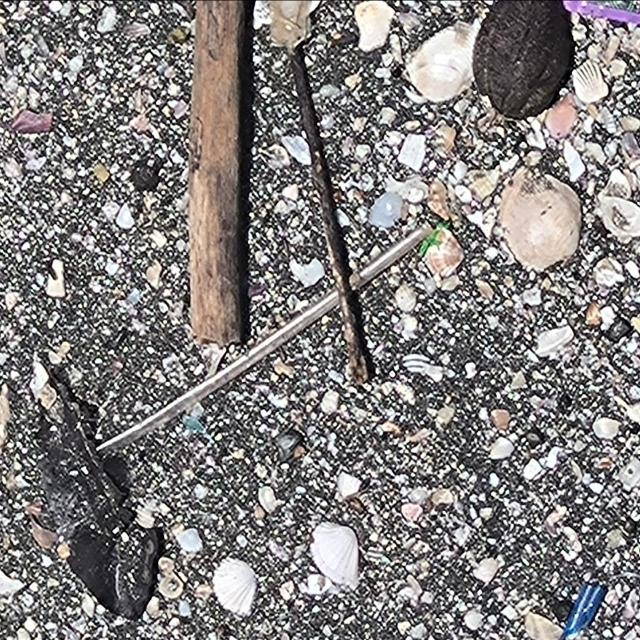plastic_waste: (93, 226, 431, 457)
wood_waste: (181, 1, 253, 347)
